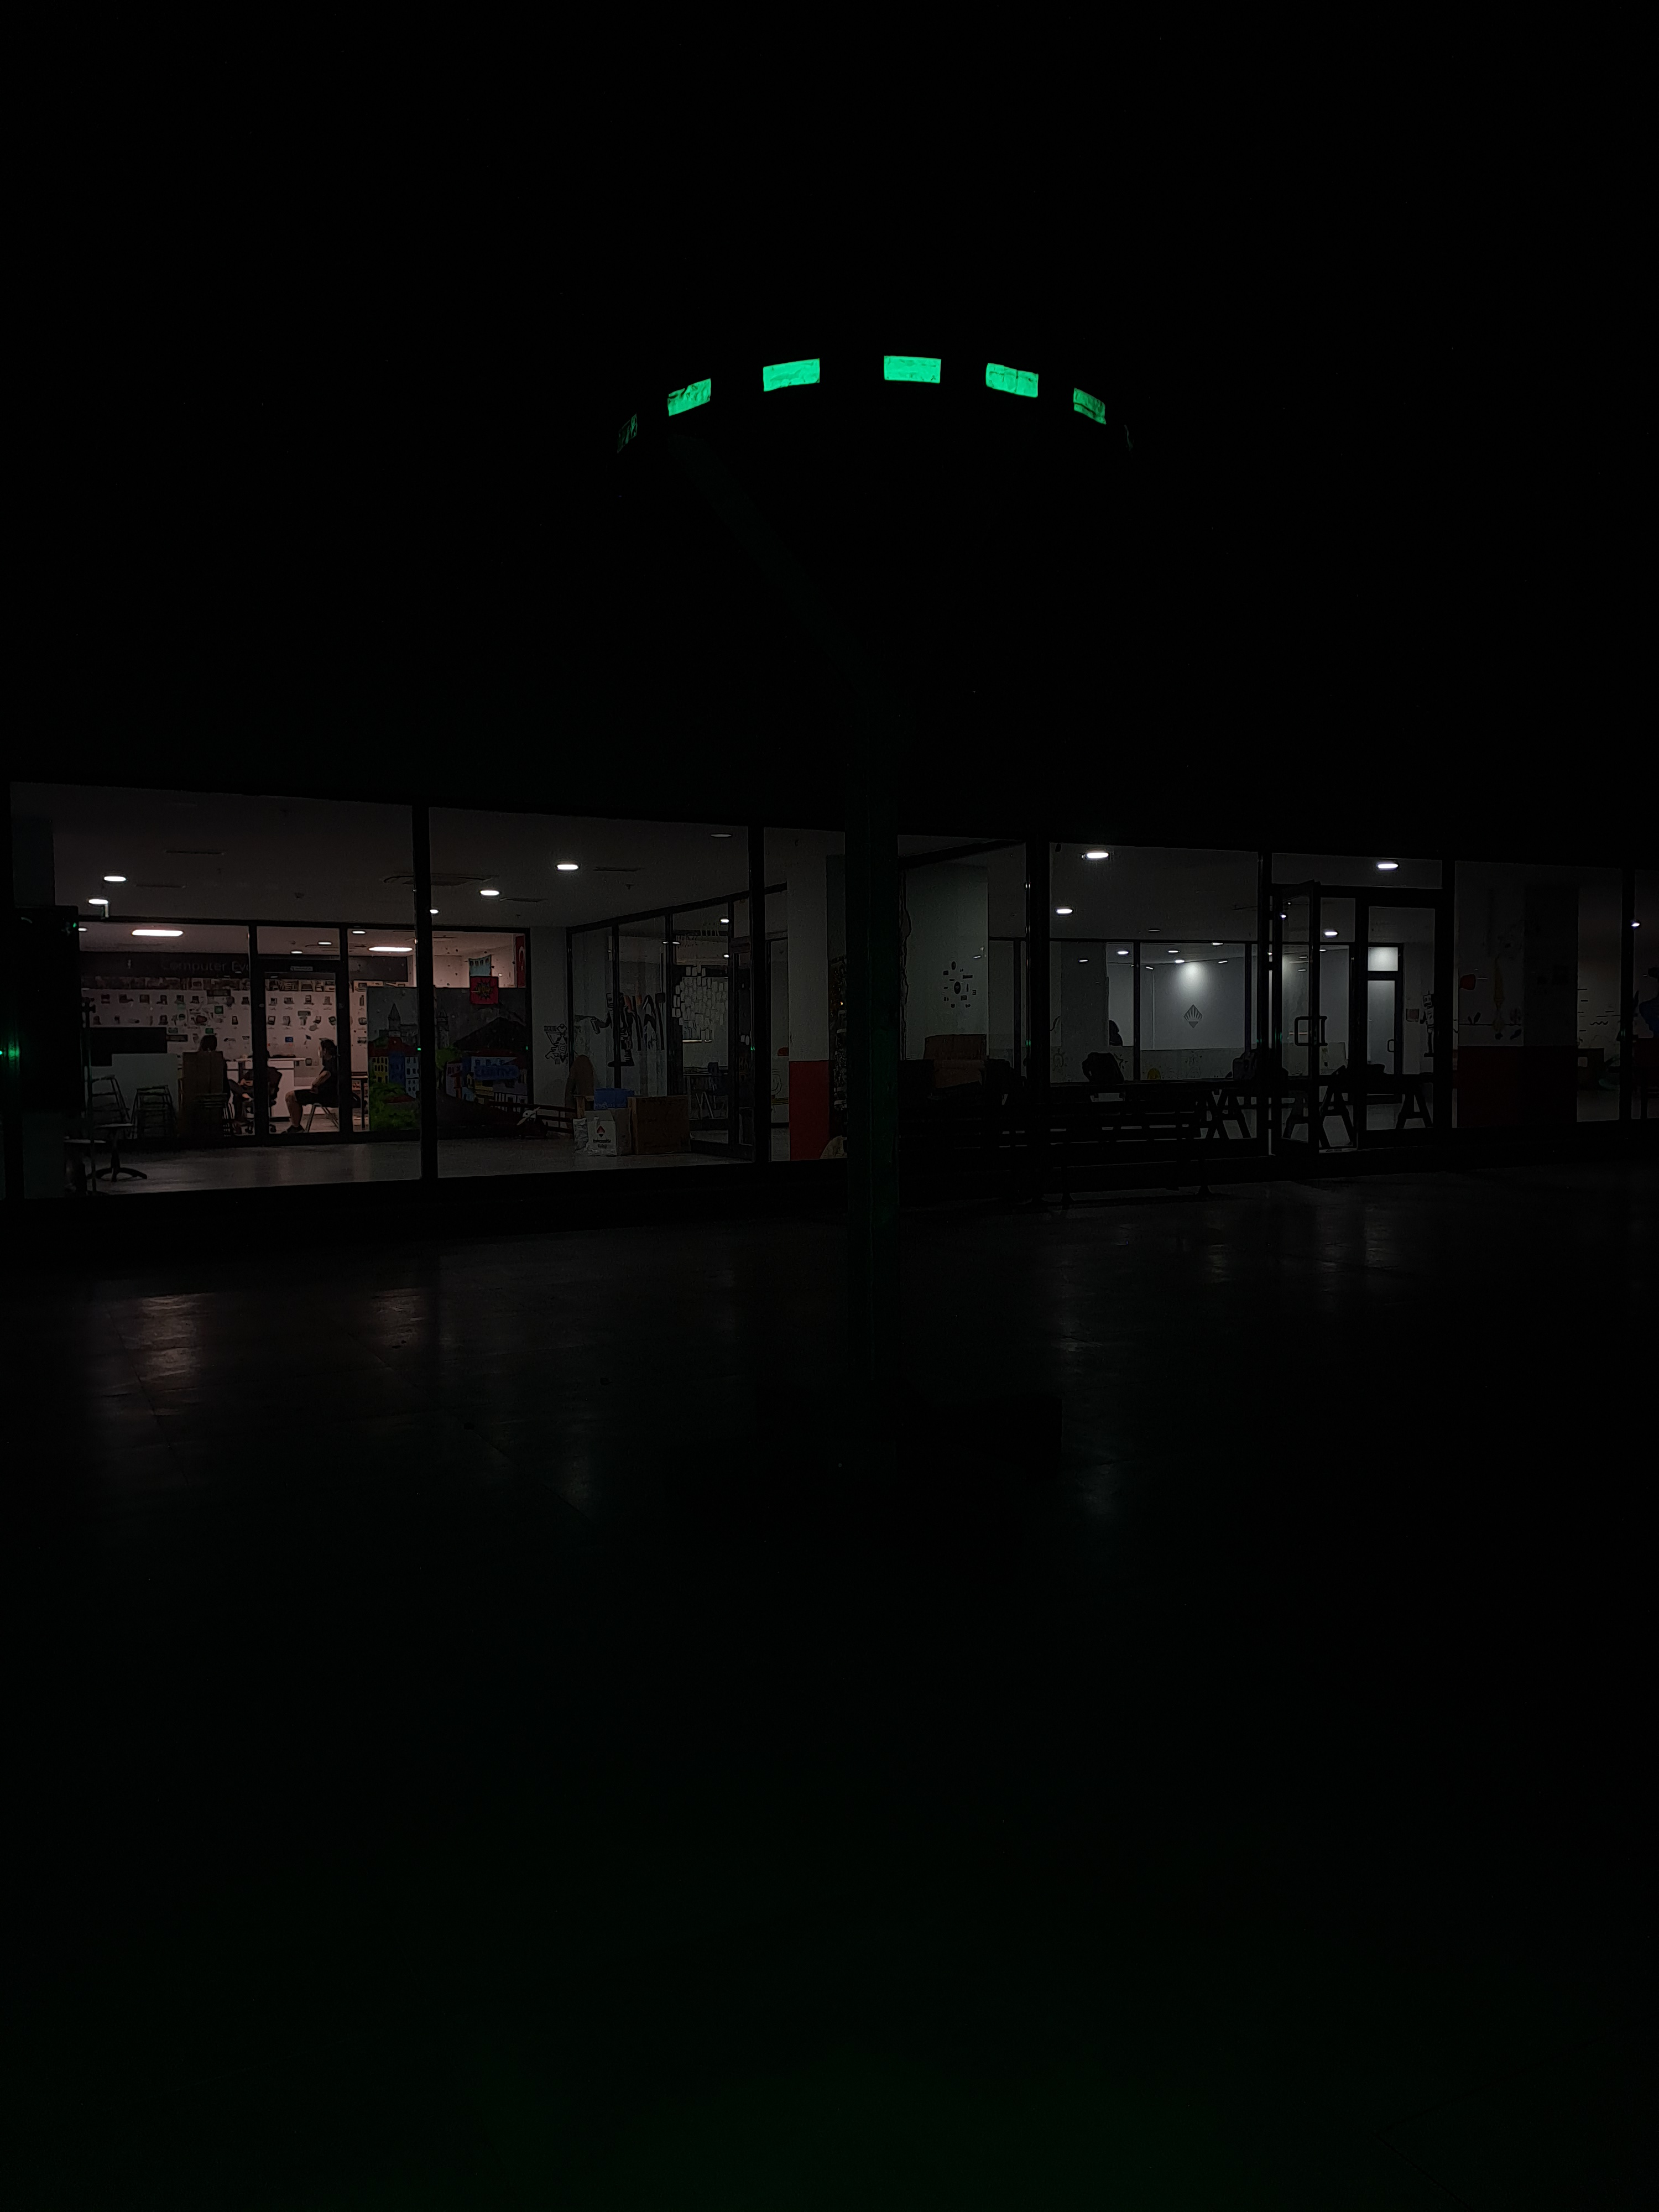hoop: (662, 347, 1112, 448)
